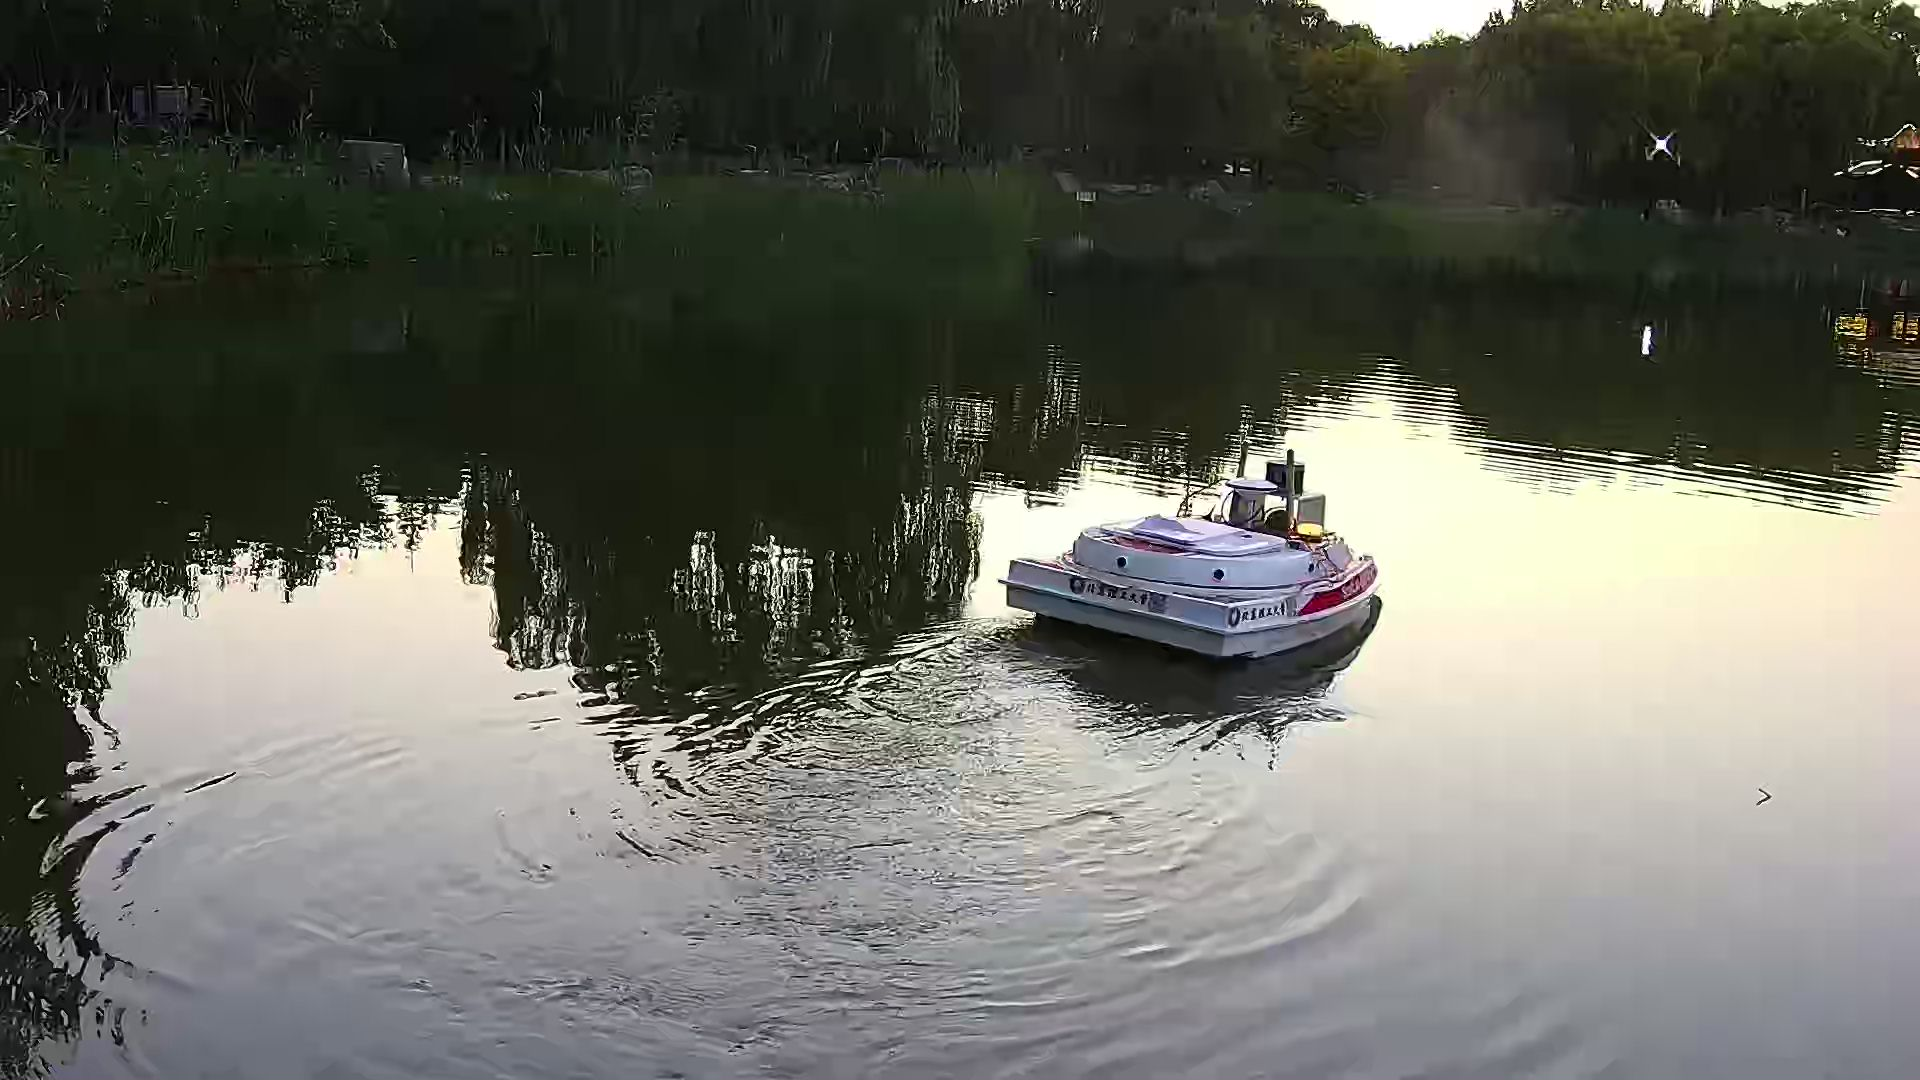boat: (993, 447, 1383, 669)
